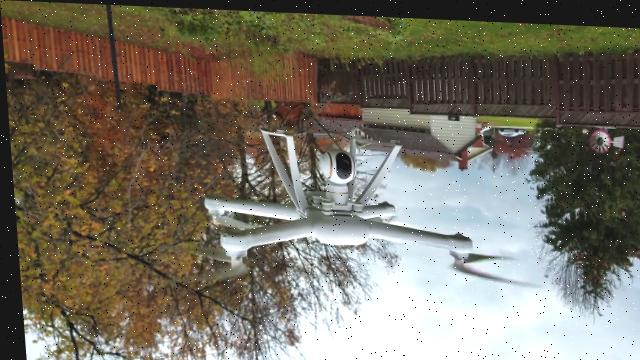drone: (152, 100, 559, 308)
